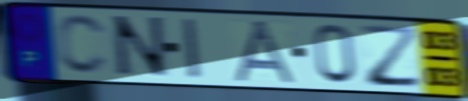0: (312, 23, 358, 86)
A: (231, 19, 302, 86)
C: (55, 12, 112, 77)
I: (180, 16, 205, 82)
N: (110, 14, 173, 80)
Z: (357, 23, 424, 90)
